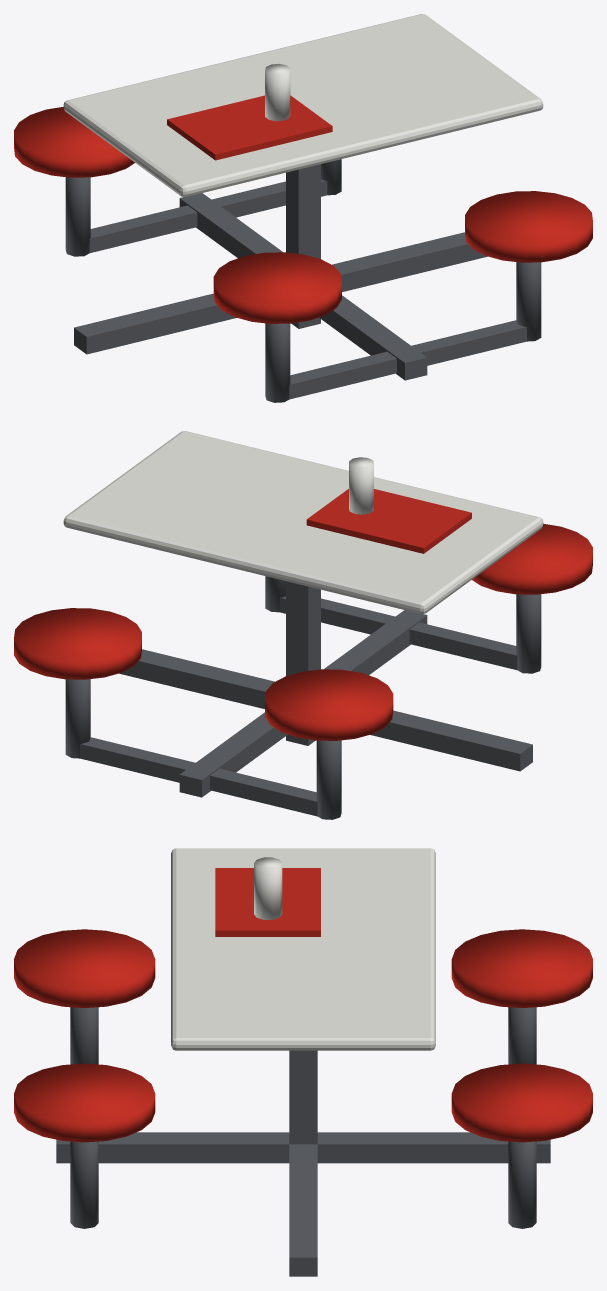
The model's file is food_court_table.glb.
3 views of the same model, one above another, from view 1: azimuth 30°, elevation 25°; view 2: azimuth 150°, elevation 25°; view 3: azimuth 270°, elevation 25° (orthographic). The views are drawn at different scales.
Visible parts, largest first — view 1: food_court_table; view 2: food_court_table; view 3: food_court_table.
Part boxes in pixels (bbox=[...]): food_court_table: bbox=[14, 14, 592, 402]; food_court_table: bbox=[14, 431, 592, 819]; food_court_table: bbox=[14, 848, 592, 1276].
Size of the model in its own units: 1.6 by 0.94 by 1.64.
Materials: 1 (1 with a texture image).
